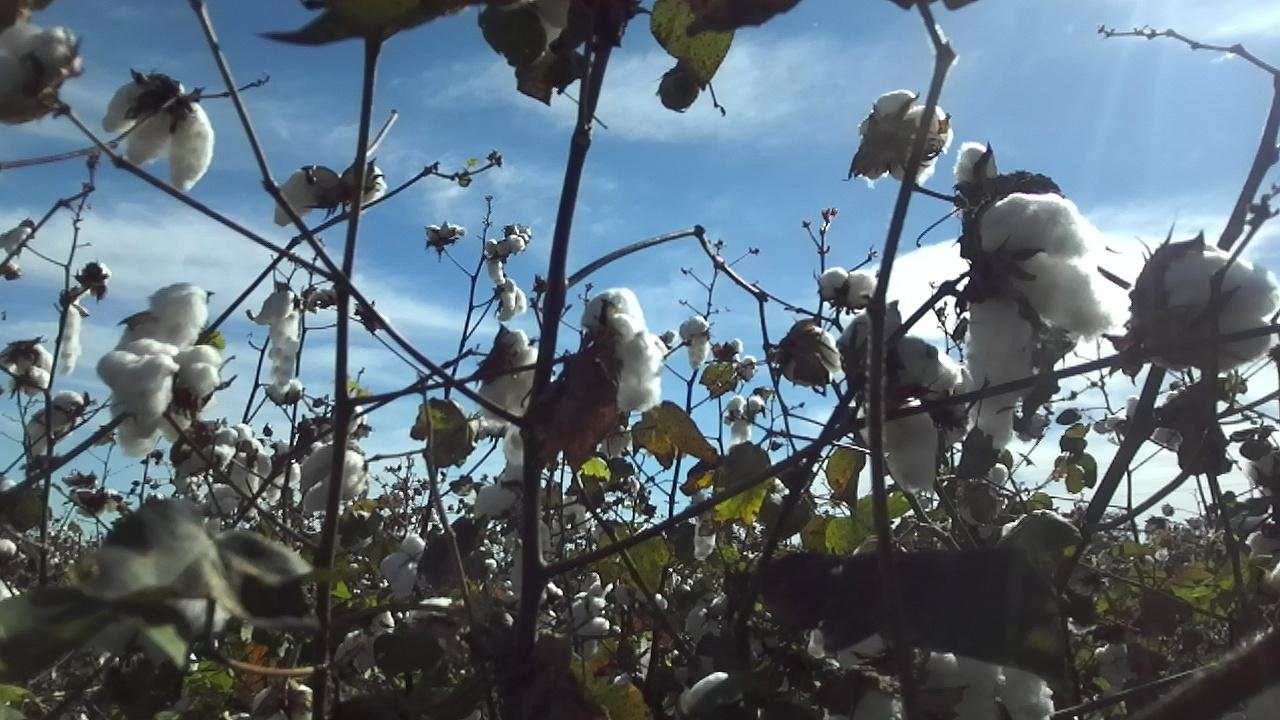cotton_ready: (965, 193, 1113, 443), (1140, 245, 1280, 372), (113, 282, 209, 461), (99, 337, 225, 443), (104, 75, 211, 193), (892, 352, 968, 490), (580, 289, 662, 414), (0, 20, 90, 127), (856, 90, 952, 190), (925, 650, 1056, 720), (806, 614, 892, 673), (299, 444, 362, 515), (274, 164, 338, 226), (777, 327, 840, 387), (491, 329, 539, 407), (267, 287, 301, 393), (831, 676, 907, 720), (953, 142, 999, 214), (0, 340, 57, 397), (817, 265, 877, 306), (343, 160, 388, 211), (473, 475, 523, 516)
